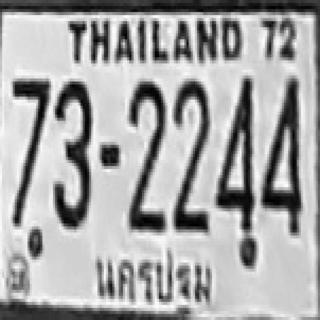N02: (127, 79, 165, 217), (172, 79, 208, 217), (172, 77, 208, 207)
N03: (51, 78, 91, 226)
N04: (261, 72, 299, 232), (214, 72, 252, 230)
N07: (11, 76, 49, 220), (11, 76, 49, 175), (11, 75, 49, 166)
P28: (89, 242, 218, 316)
